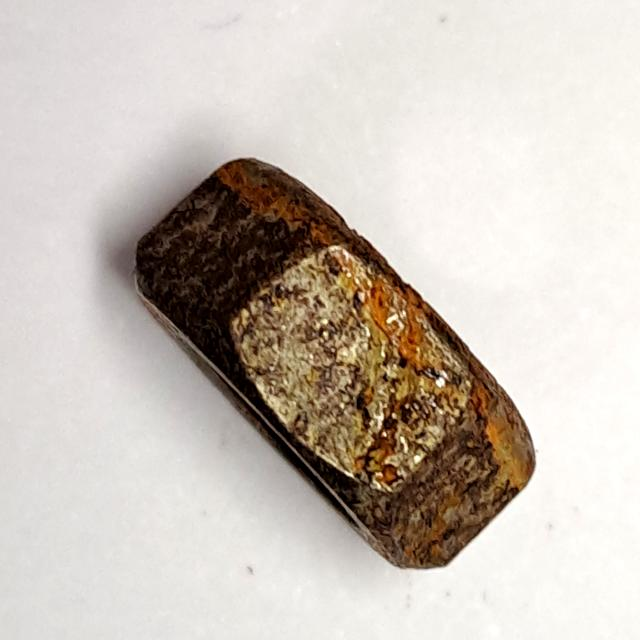Side_Rust: (122, 145, 549, 582)
